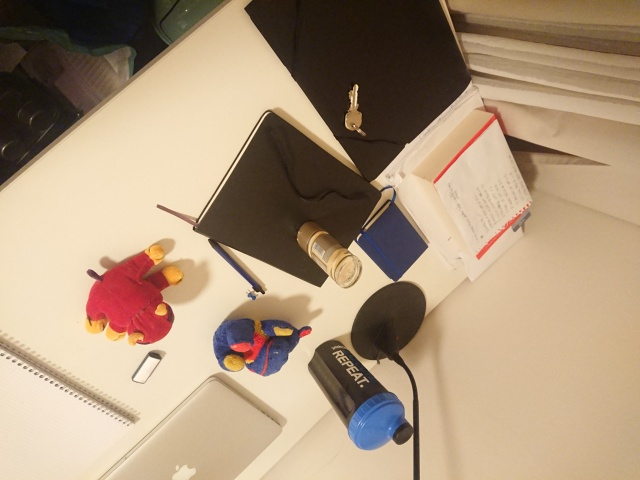Kotanyi Garlic Granules 70g: (294, 217, 364, 291)
